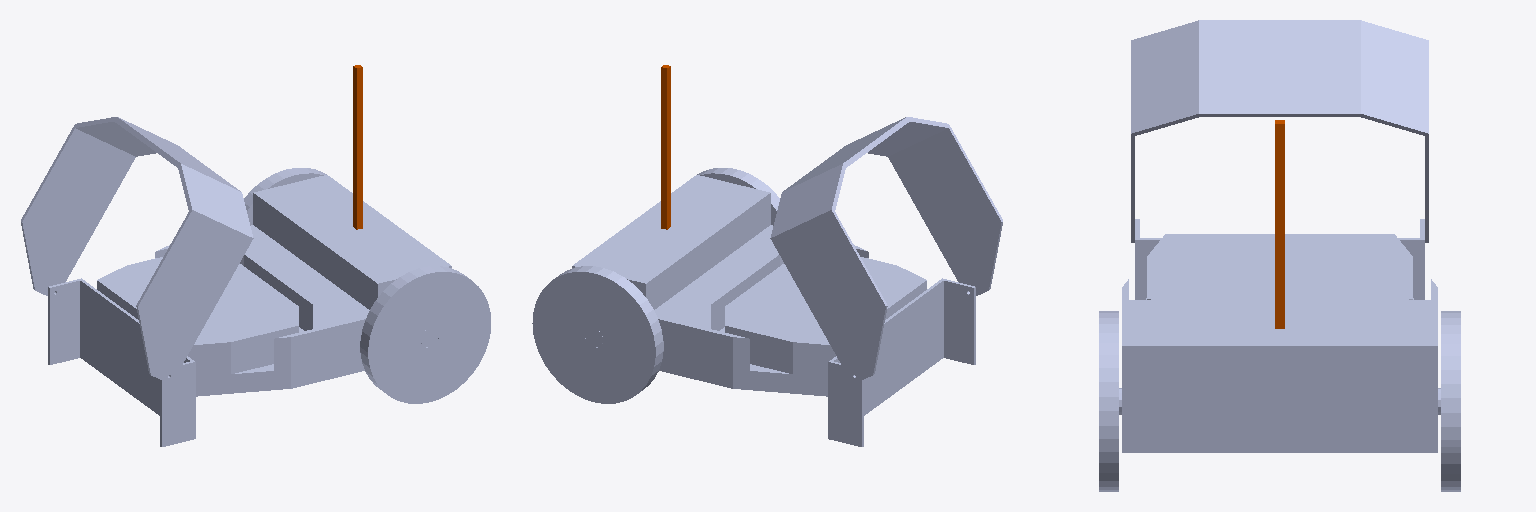
robot.urdf — robot_18:
<?xml version="1.0" encoding="utf-8"?>
<!-- This URDF was automatically created by SolidWorks to URDF Exporter! Originally created by [author] ([email redacted]) 
     Commit Version: 1.6.0-1-g15f4949  Build Version: 1.6.7594.29634
     For more information, please see http://wiki.ros.org/sw_urdf_exporter -->
<robot
  name="robot_18">
  <link
    name="base_link">
    <inertial>
      <origin
        xyz="0.026797 0.047887 1.2181E-16"
        rpy="0 0 0" />
      <mass
        value="5" />
      <inertia
        ixx="0.13262"
        ixy="-0.020407"
        ixz="-1.3551E-17"
        iyy="0.29669"
        iyz="-2.7025E-18"
        izz="0.19581" />
    </inertial>
    <visual>
      <origin
        xyz="0 0 0"
        rpy="0 0 0" />
      <geometry>
        <mesh
          filename="package://robot_18/meshes/base_link.STL" />
      </geometry>
      <material
        name="">
        <color
          rgba="0.79216 0.81961 0.93333 1" />
      </material>
    </visual>
    <collision>
      <origin
        xyz="0 0 0"
        rpy="0 0 0" />
      <geometry>
        <mesh
          filename="package://robot_18/meshes/base_link.STL" />
      </geometry>
    </collision>
  </link>
  <link
    name="L_link">
    <inertial>
      <origin
        xyz="2.7756E-17 0 -0.01125"
        rpy="0 0 0" />
      <mass
        value="0.69095" />
      <inertia
        ixx="0.0017954"
        ixy="0"
        ixz="2.4472E-19"
        iyy="0.0017954"
        iyz="5.8531E-21"
        izz="0.0035325" />
    </inertial>
    <visual>
      <origin
        xyz="0 0 0"
        rpy="0 0 0" />
      <geometry>
        <mesh
          filename="package://robot_18/meshes/L_link.STL" />
      </geometry>
      <material
        name="">
        <color
          rgba="0.79216 0.81961 0.93333 1" />
      </material>
    </visual>
    <collision>
      <origin
        xyz="0 0 0"
        rpy="0 0 0" />
      <geometry>
        <mesh
          filename="package://robot_18/meshes/L_link.STL" />
      </geometry>
    </collision>
  </link>
  <joint
    name="L_joint"
    type="continuous">
    <origin
      xyz="0.15093 -0.1775 0.04"
      rpy="1.5708 0 -3.1416" />
    <parent
      link="base_link" />
    <child
      link="L_link" />
    <axis
      xyz="0 0 -1" />
  </joint>
  <link
    name="R_link">
    <inertial>
      <origin
        xyz="0 0 0.01125"
        rpy="0 0 0" />
      <mass
        value="0.69095" />
      <inertia
        ixx="0.0017954"
        ixy="-6.7763E-20"
        ixz="-6.3899E-19"
        iyy="0.0017954"
        iyz="3.3386E-20"
        izz="0.0035325" />
    </inertial>
    <visual>
      <origin
        xyz="0 0 0"
        rpy="0 0 0" />
      <geometry>
        <mesh
          filename="package://robot_18/meshes/R_link.STL" />
      </geometry>
      <material
        name="">
        <color
          rgba="0.79216 0.81961 0.93333 1" />
      </material>
    </visual>
    <collision>
      <origin
        xyz="0 0 0"
        rpy="0 0 0" />
      <geometry>
        <mesh
          filename="package://robot_18/meshes/R_link.STL" />
      </geometry>
    </collision>
  </link>
  <joint
    name="R_joint"
    type="continuous">
    <origin
      xyz="0.15093 0.1775 0.04"
      rpy="-1.5708 0.095053 0" />
    <parent
      link="base_link" />
    <child
      link="R_link" />
    <axis
      xyz="0 0 -1" />
  </joint>
  <link
    name="Gripper_link">
    <inertial>
      <origin
        xyz="0.0016471 -0.155 0.062648"
        rpy="0 0 0" />
      <mass
        value="0.27654" />
      <inertia
        ixx="0.003447"
        ixy="5.6078E-19"
        ixz="1.8299E-05"
        iyy="0.00038921"
        iyz="5.0715E-19"
        izz="0.003189" />
    </inertial>
    <visual>
      <origin
        xyz="0 0 0"
        rpy="0 0 0" />
      <geometry>
        <mesh
          filename="package://robot_18/meshes/Gripper_link.STL" />
      </geometry>
      <material
        name="">
        <color
          rgba="0.79216 0.81961 0.93333 1" />
      </material>
    </visual>
    <collision>
      <origin
        xyz="0 0 0"
        rpy="0 0 0" />
      <geometry>
        <mesh
          filename="package://robot_18/meshes/Gripper_link.STL" />
      </geometry>
    </collision>
  </link>
  <joint
    name="Gripper_joint"
    type="fixed">
    <origin
      xyz="-0.210933078536684 -0.155 -0.05"
      rpy="0 0 3.14159265358979" />
    <parent
      link="base_link" />
    <child
      link="Gripper_link" />
    <axis
      xyz="0 0 0" />
  </joint>
  <link
    name="S_link">
    <inertial>
      <origin
        xyz="0.155 0.19524 -0.048102"
        rpy="0 0 0" />
      <mass
        value="0.55679" />
      <inertia
        ixx="0.0043155"
        ixy="4.422E-18"
        ixz="-1.2016E-19"
        iyy="0.0099472"
        iyz="0.00018287"
        izz="0.012948" />
    </inertial>
    <visual>
      <origin
        xyz="0 0 0"
        rpy="0 0 0" />
      <geometry>
        <mesh
          filename="package://robot_18/meshes/S_link.STL" />
      </geometry>
      <material
        name="">
        <color
          rgba="0.79216 0.81961 0.93333 1" />
      </material>
    </visual>
    <collision>
      <origin
        xyz="0 0 0"
        rpy="0 0 0" />
      <geometry>
        <mesh
          filename="package://robot_18/meshes/S_link.STL" />
      </geometry>
    </collision>
  </link>
  <joint
    name="Slider_joint"
    type="revolute">
    <origin
      xyz="0.04 0 0.11"
      rpy="2.1695 0 -1.5708" />
    <parent
      link="Gripper_link" />
    <child
      link="S_link" />
    <axis
      xyz="1 0 0" />
    <limit
      lower="-2"
      upper="1"
      effort="1000"
      velocity="0.5" />
  </joint>
   <link name="camera_link">
   <inertial>
      <mass value="0.5"/>
      <origin rpy="0 0 0" xyz="0 0 0"/>
      <inertia ixx="0.00270833333333" ixy="0" ixz="0" iyy="0.00104166666667" iyz="0" izz="0.00208333333333"/>
    </inertial>
    <collision>
      <geometry>
        <box size="0.01 0.01 0.25"/>
      </geometry>
    </collision>
    <visual>
      <geometry>
        <box size="0.01 0.01 0.25"/>
      </geometry>
      <material name="white"/>
    </visual>
  </link>

  <joint name="joint_sensor_camera" type="fixed">
    <origin xyz="0.15 0 0.255" rpy="0 0 3.1428"/>
    <parent link="base_link"/>
    <child link="camera_link"/>
  </joint>

   <link name="laser_link">
   <inertial>
      <mass value="0.5"/>
      <origin rpy="0 0 0" xyz="0 0 0"/>
      <inertia ixx="0.00270833333333" ixy="0" ixz="0" iyy="0.00104166666667" iyz="0" izz="0.00208333333333"/>
    </inertial>
    <collision>
      <geometry>
        <box size="0.01 0.01 0.05"/>
      </geometry>
    </collision>
    <visual>
      <geometry>
        <box size="0.01 0.01 0.05"/>
      </geometry>
      <material name="white"/>
    </visual>
  </link>

  <joint name="joint_sensor_laser" type="fixed">
    <origin xyz="-0.15 0 0.105" rpy="0 0 3.1428"/>
    <parent link="base_link"/>
    <child link="laser_link"/>
  </joint>

  <gazebo>
    <plugin filename="libgazebo_ros_diff_drive.so" name="differential_drive_controller">
      <alwaysOn>true</alwaysOn>
      <updateRate>20</updateRate>
      <leftJoint>L_joint</leftJoint>
      <rightJoint>R_joint</rightJoint>
      <wheelSeparation>0.35</wheelSeparation>
      <wheelDiameter>0.2</wheelDiameter>
      <torque>100</torque>
      <commandTopic>cmd_vel</commandTopic>
      <odometryTopic>odom</odometryTopic>
      <odometryFrame>odom</odometryFrame>
      <robotBaseFrame>base_link</robotBaseFrame>
    </plugin>
  </gazebo>
  <gazebo reference="laser_link">
    <sensor type="ray" name="head_hokuyo_sensor">
      <pose>0 0 0 0 0 0</pose>
      <visualize>false</visualize>
      <update_rate>20</update_rate>
      <ray>
        <scan>
          <horizontal>
            <samples>720</samples>
            <resolution>1</resolution>
            <min_angle>-1.570796</min_angle>
            <max_angle>1.570796</max_angle>
          </horizontal>
        </scan>
        <range>
          <min>0.10</min>
          <max>10.0</max>
          <resolution>0.01</resolution>
        </range>
        <noise>
          <type>gaussian</type>
          <mean>0.0</mean>
          <stddev>0.01</stddev>
        </noise>
      </ray>
      <plugin name="gazebo_ros_head_hokuyo_controller" filename="libgazebo_ros_laser.so">
        <topicName>/robot/laser/scan</topicName>
        <frameName>laser_link</frameName>
      </plugin>
    </sensor>
  </gazebo>

  <gazebo reference="camera_link">
    <sensor type="camera" name="camera1">
      <update_rate>30.0</update_rate>
      <camera name="head">
        <horizontal_fov>1.3962634</horizontal_fov>
        <image>
          <width>800</width>
          <height>800</height>
          <format>R8G8B8</format>
        </image>
        <clip>
          <near>0.02</near>
          <far>300</far>
        </clip>
        <noise>
          <type>gaussian</type>
          <!-- Noise is sampled independently per pixel on each frame.
               That pixel's noise value is added to each of its color
               channels, which at that point lie in the range [0,1]. -->
          <mean>0.0</mean>
          <stddev>0.007</stddev>
        </noise>
      </camera>
      <plugin name="camera_controller" filename="libgazebo_ros_camera.so">
        <alwaysOn>true</alwaysOn>
        <updateRate>0.0</updateRate>
        <cameraName>robot/camera1</cameraName>
        <imageTopicName>image_raw</imageTopicName>
        <cameraInfoTopicName>camera_info</cameraInfoTopicName>
        <frameName>camera_link</frameName>
        <hackBaseline>0.07</hackBaseline>
        <distortionK1>0.0</distortionK1>
        <distortionK2>0.0</distortionK2>
        <distortionK3>0.0</distortionK3>
        <distortionT1>0.0</distortionT1>
        <distortionT2>0.0</distortionT2>
      </plugin>
    </sensor>
  </gazebo>

</robot>

--- Render facts (derived) ---
The picture shows the robot from 3 angles, left to right: view 1: azimuth 30°, elevation 25°; view 2: azimuth 150°, elevation 25°; view 3: azimuth 270°, elevation 25°; orthographic projection.
Model robot_18 with 7 links and 6 joints (1 revolute, 2 continuous, 3 fixed), rooted at base_link, posed all joints at 0.
Visible links, largest first — view 1: base_link, S_link, L_link, Gripper_link, camera_link, R_link; view 2: base_link, S_link, R_link, Gripper_link, camera_link, L_link; view 3: base_link, S_link, L_link, R_link, camera_link, Gripper_link.
Boxes of the visible links, x1,y1,x2,y2 form: base_link: [97, 175, 451, 396]; S_link: [21, 117, 253, 384]; L_link: [360, 266, 490, 403]; Gripper_link: [48, 278, 195, 446]; camera_link: [353, 65, 362, 229]; R_link: [244, 168, 326, 225]; base_link: [572, 175, 926, 396]; S_link: [770, 117, 1002, 384]; R_link: [532, 266, 663, 403]; Gripper_link: [828, 278, 975, 446]; camera_link: [661, 65, 670, 229]; L_link: [697, 168, 779, 225]; base_link: [1119, 234, 1440, 452]; S_link: [1131, 20, 1428, 242]; L_link: [1099, 311, 1118, 491]; R_link: [1441, 311, 1460, 491]; camera_link: [1275, 120, 1284, 328]; Gripper_link: [1135, 219, 1424, 299].
Size in the robot's own frame: 0.5533 by 0.4 by 0.4399 metres.
Meshes: 5 distinct files referenced, 5 mesh visuals loaded (5 binary STL).
